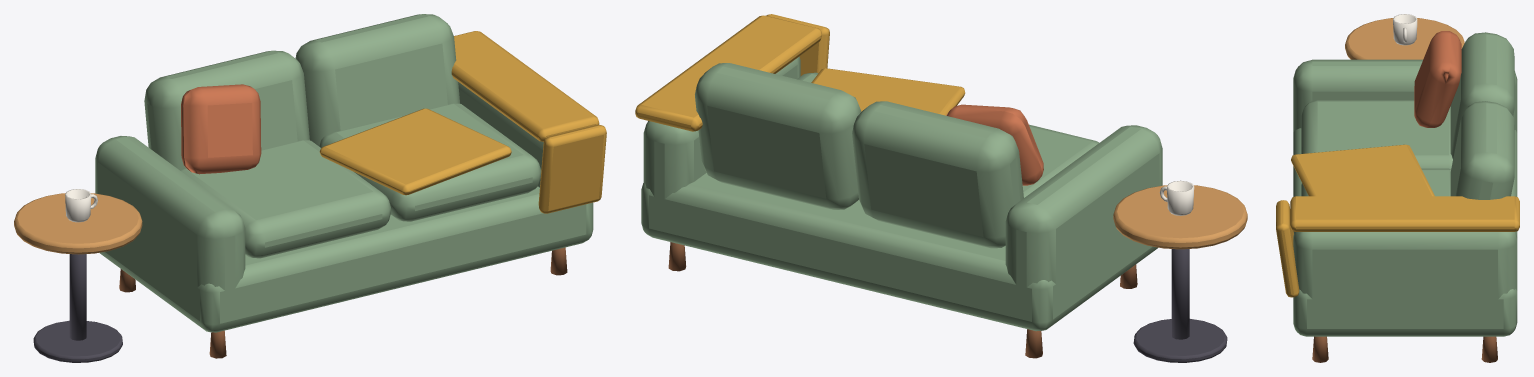
Rendered from nap_pod_l2.glb.
The picture shows the model from 3 angles, left to right: view 1: azimuth 30°, elevation 25°; view 2: azimuth 150°, elevation 25°; view 3: azimuth 270°, elevation 25°; orthographic projection. The views are drawn at different scales.
Visible parts, largest first — view 1: nap_pod_l2; view 2: nap_pod_l2; view 3: nap_pod_l2.
Boxes of the visible parts, x1,y1,x2,y2 form: nap_pod_l2: (14,14,606,362); nap_pod_l2: (635,14,1247,362); nap_pod_l2: (1276,14,1519,362).
Bounding box in the file's own units: 2.05 × 0.7777 × 0.8928.
